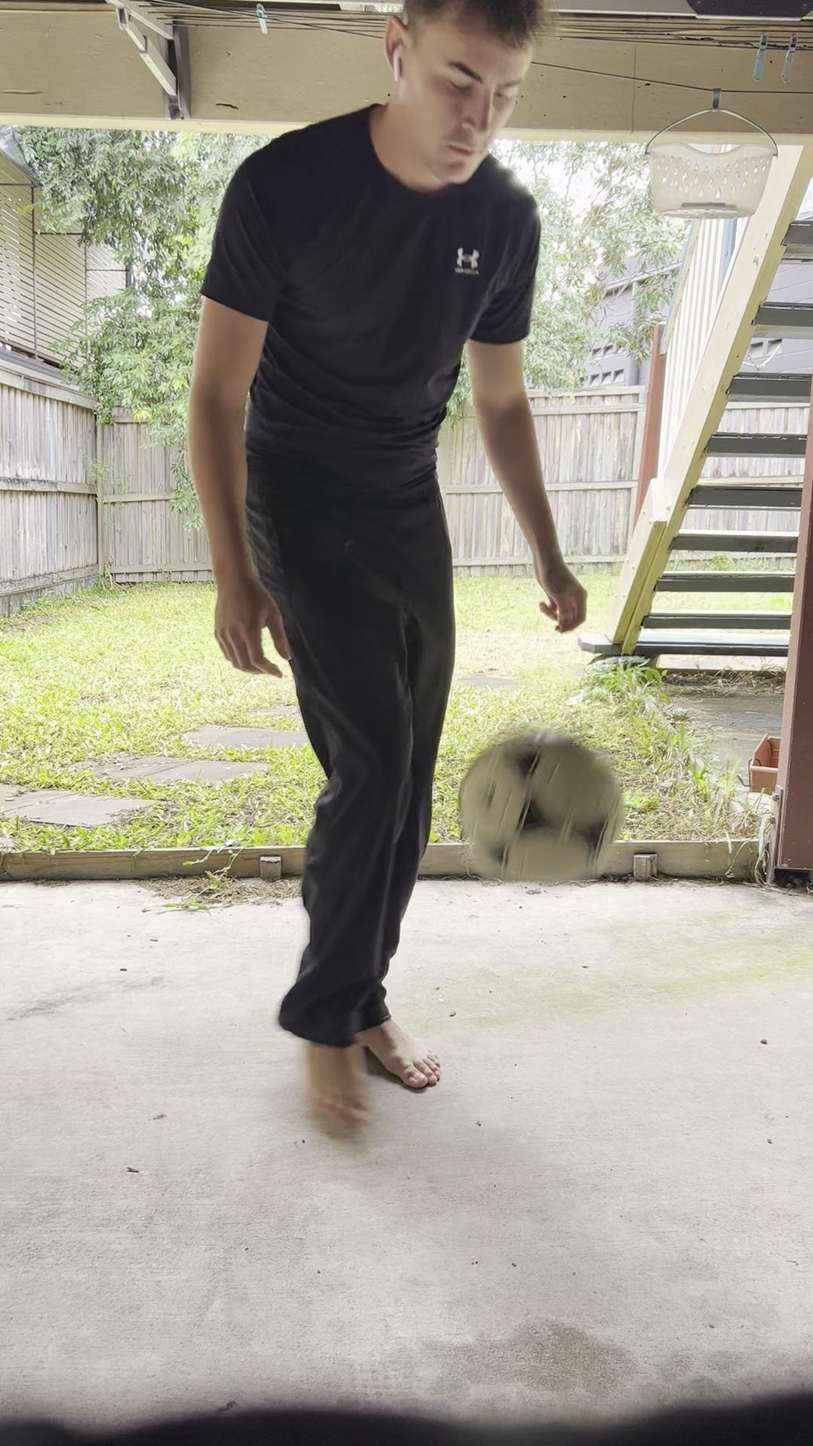ball: (458, 731, 617, 886)
foot: (360, 1018, 443, 1093), (311, 1043, 370, 1128)
person: (187, 0, 591, 1121)
